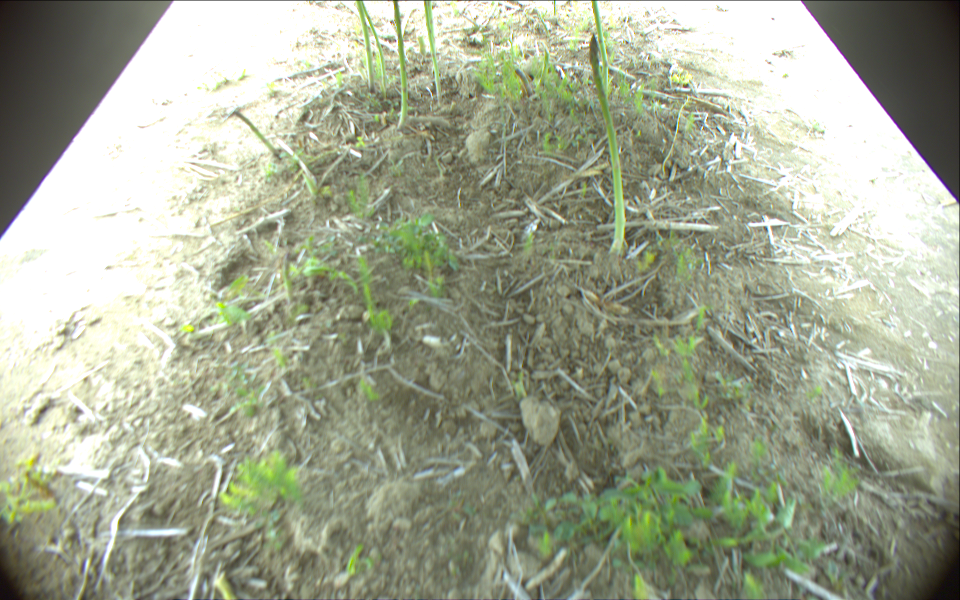aspa: (588, 33, 626, 256), (226, 111, 283, 161), (361, 1, 388, 97), (422, 1, 444, 105), (662, 95, 689, 177), (393, 1, 408, 129), (590, 1, 608, 97), (357, 1, 375, 92), (282, 246, 294, 304), (551, 1, 557, 16)
